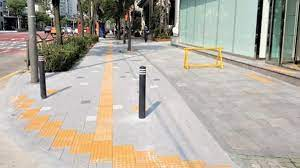guide_blocks: (113, 145, 223, 168), (96, 40, 113, 141), (47, 120, 92, 150), (13, 98, 44, 127), (94, 142, 112, 165)
